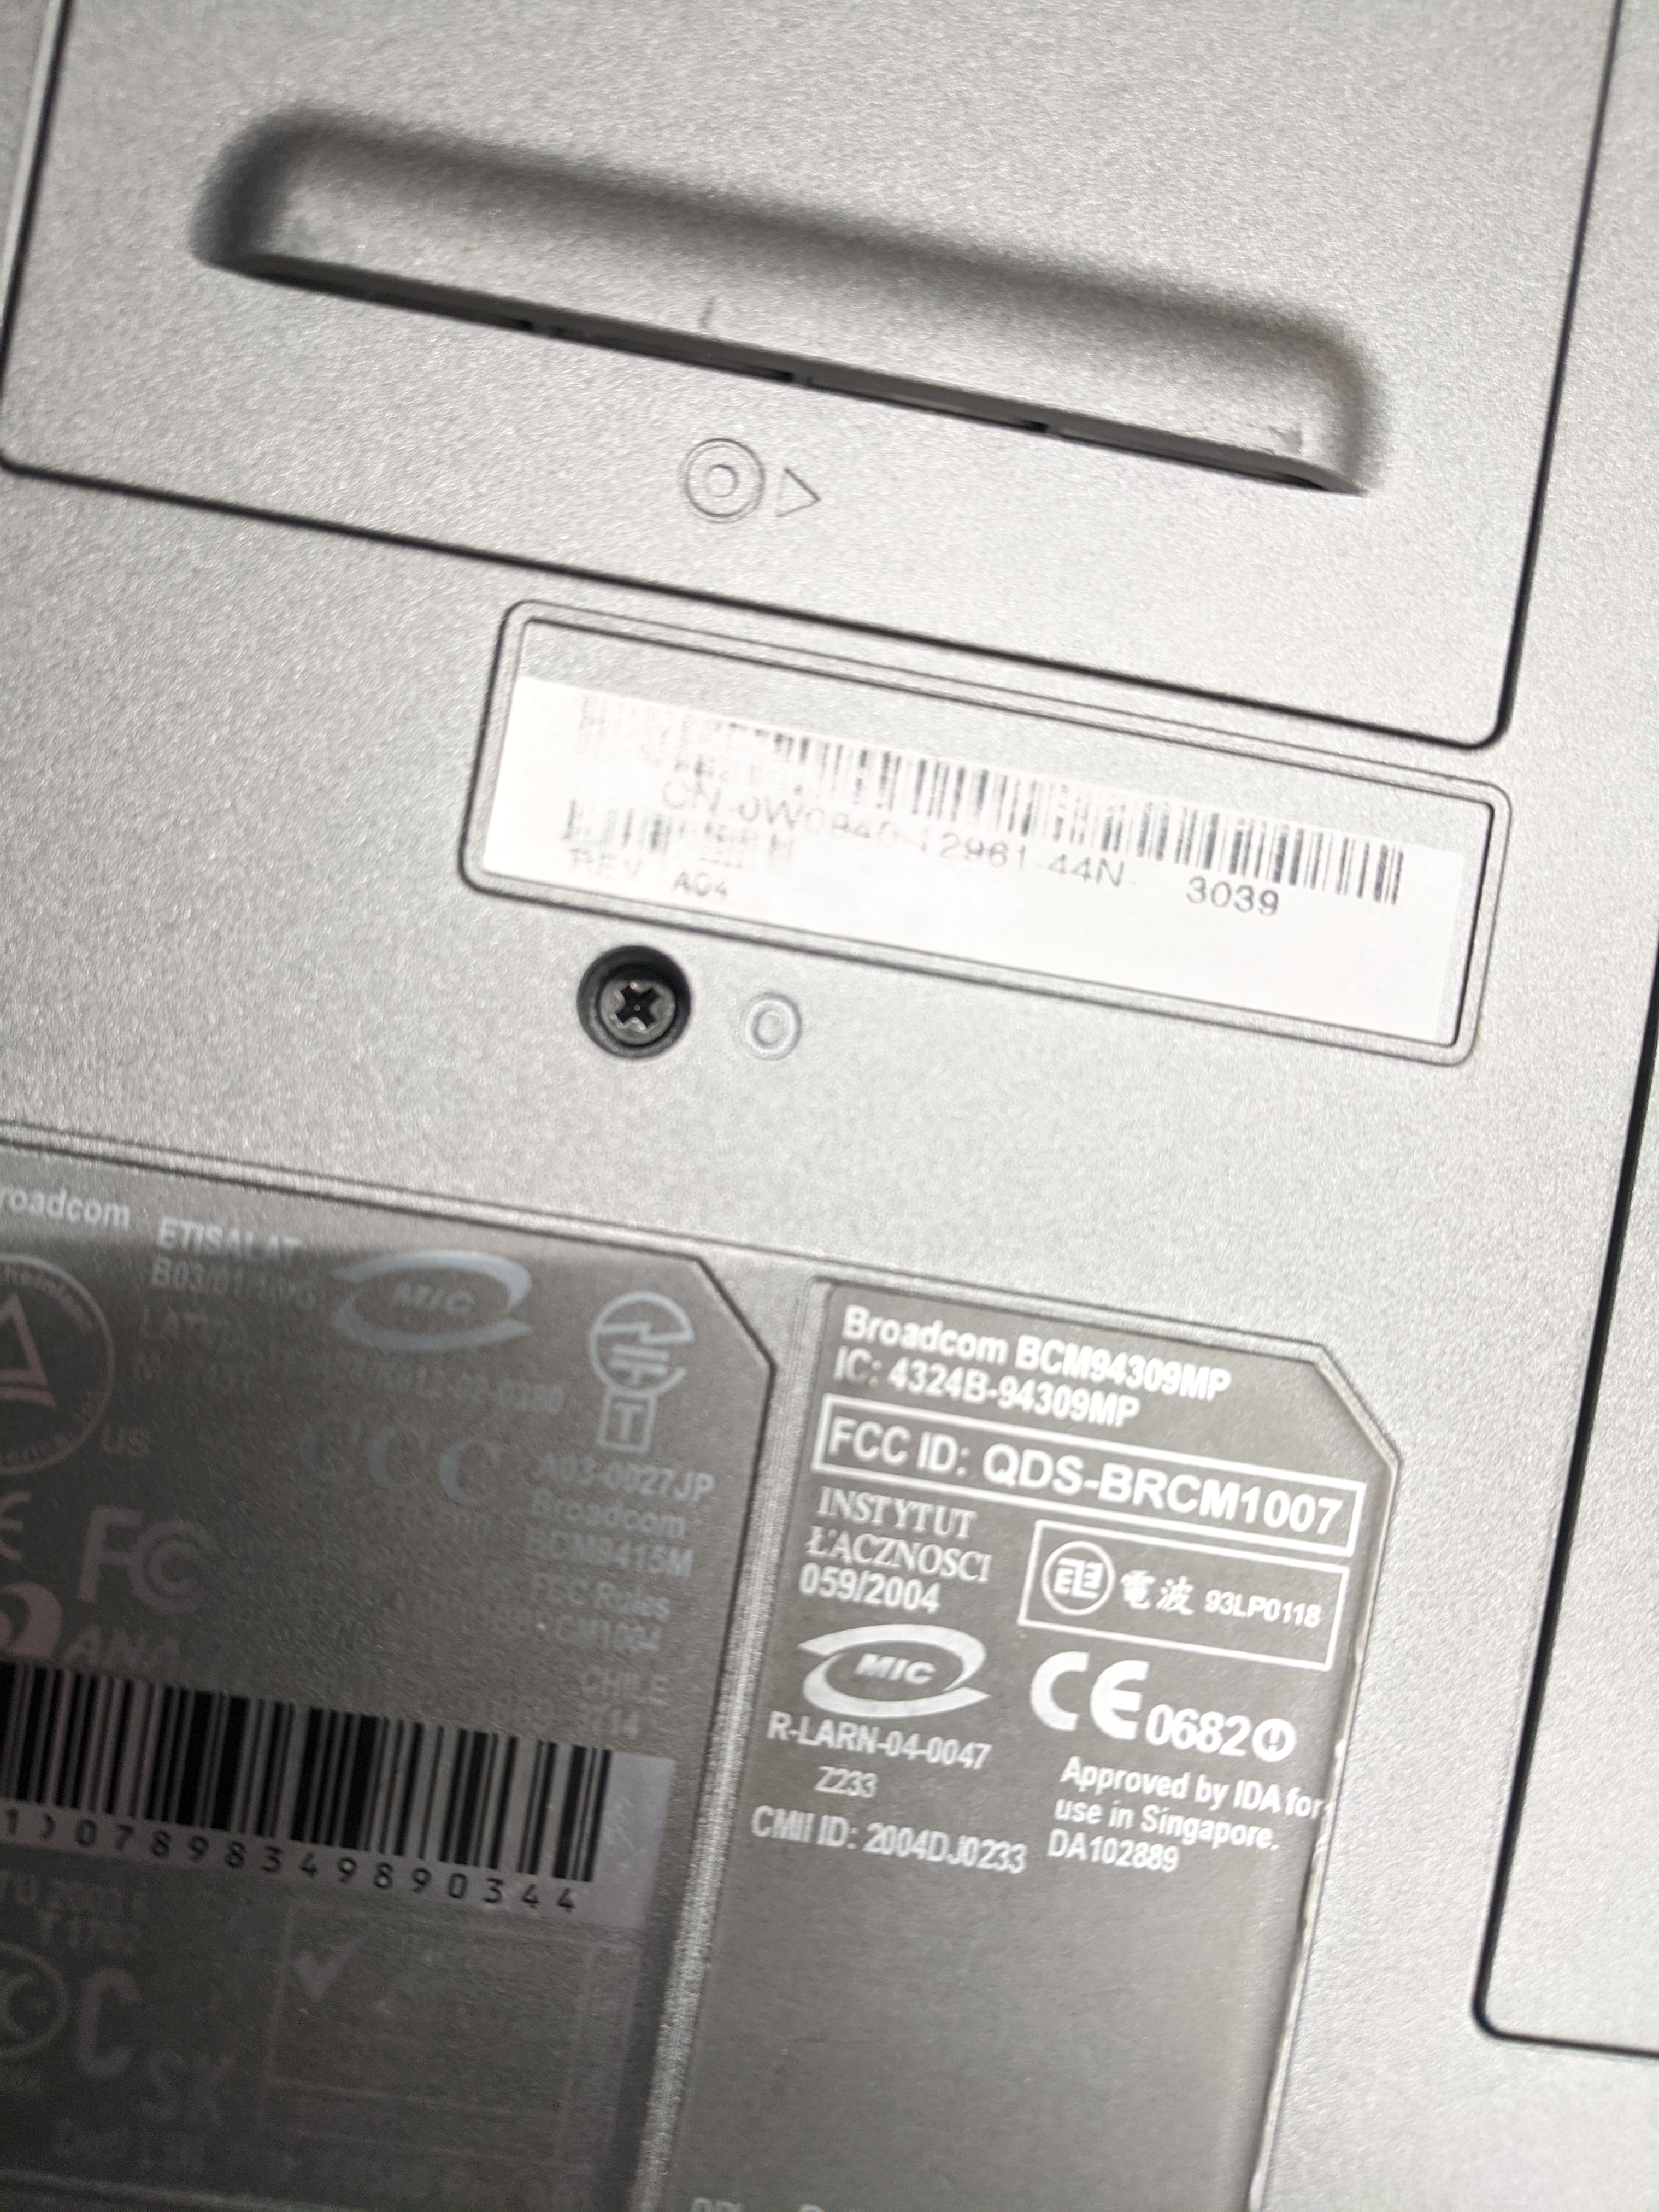cross_recessed_screw: (570, 948, 687, 1062)
